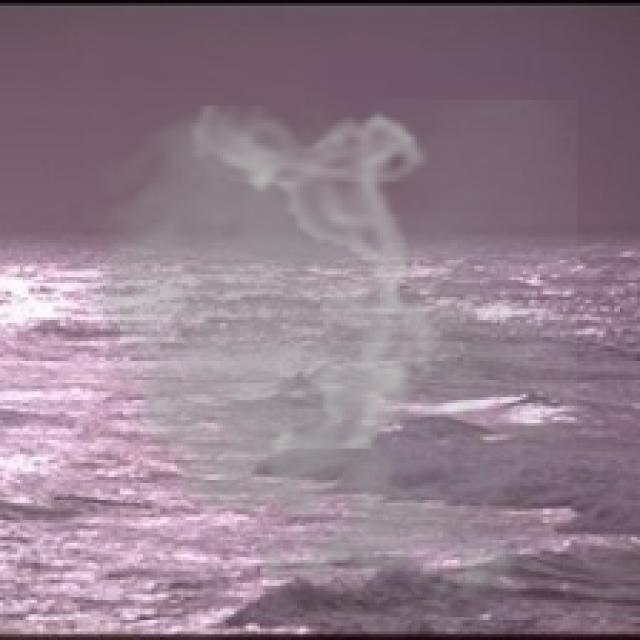smoke: (57, 100, 577, 617)
